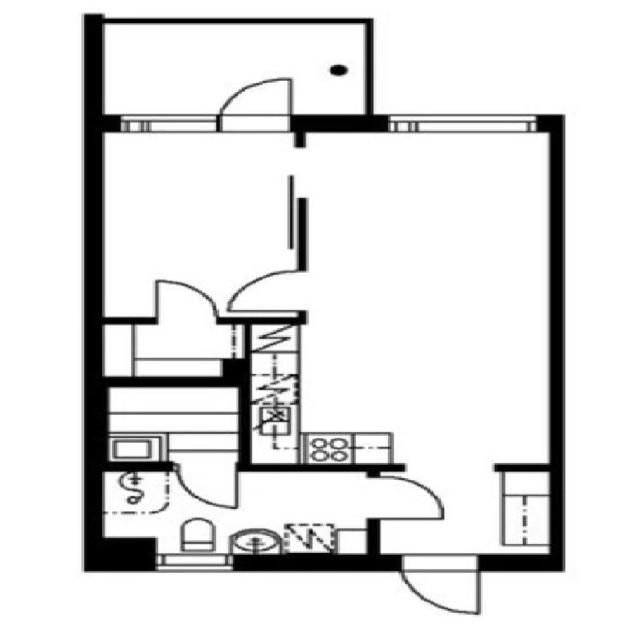door: (393, 553, 487, 620), (210, 70, 302, 128), (138, 273, 234, 323), (223, 264, 312, 317), (368, 473, 452, 526), (170, 460, 248, 512)
window: (377, 106, 546, 140), (209, 70, 302, 128), (102, 105, 235, 138), (138, 550, 250, 578)
zone: (243, 116, 558, 464), (89, 122, 306, 322), (93, 464, 431, 564), (114, 18, 352, 128), (372, 468, 558, 567), (91, 382, 242, 463), (86, 322, 247, 382)
